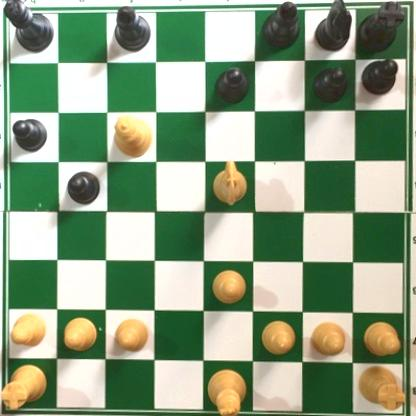black-bishop: (260, 1, 302, 49), (113, 4, 153, 53)
black-king: (3, 1, 54, 54)
black-knight: (314, 1, 351, 53)
black-pawn: (360, 56, 399, 96), (213, 65, 249, 105), (312, 66, 348, 106), (10, 118, 49, 153), (63, 169, 100, 205)
black-rook: (355, 1, 405, 55)
white-king: (202, 369, 245, 416)
white-knight: (211, 158, 248, 208)
white-pawn: (358, 319, 401, 362), (7, 308, 48, 347), (308, 320, 348, 359), (60, 316, 99, 353), (258, 319, 297, 356), (210, 269, 247, 306), (114, 317, 149, 353)
white-queen: (112, 111, 154, 154)
white-rook: (354, 362, 406, 411), (1, 360, 49, 413)
